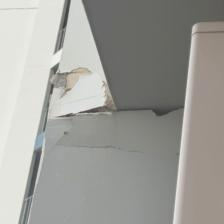High: (43, 65, 189, 160)
